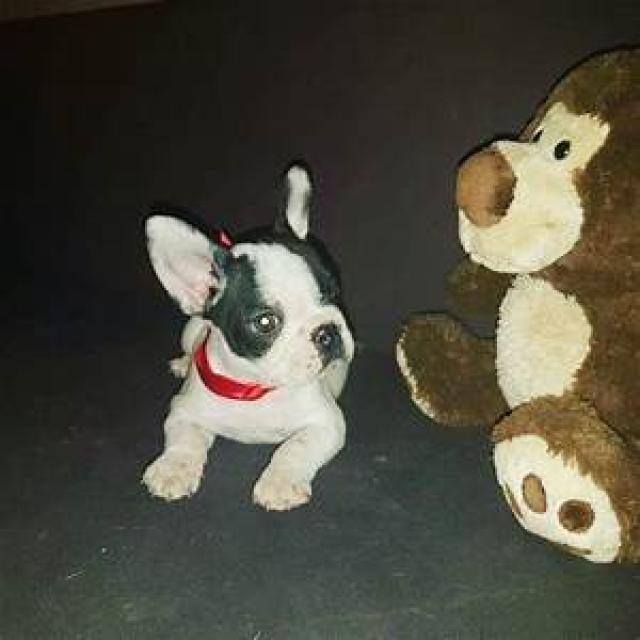KOPEK: (127, 165, 365, 513)
